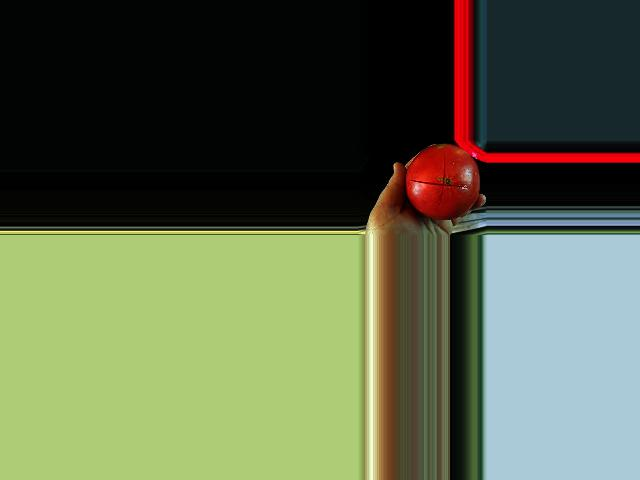tomato: (405, 144, 481, 220)
